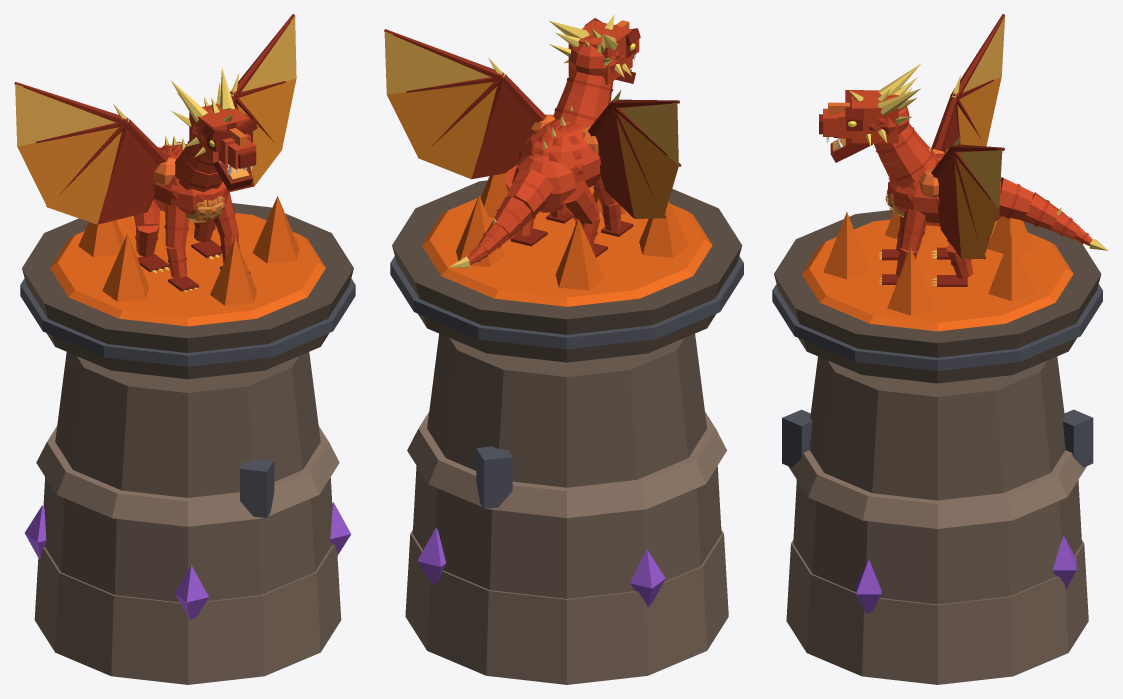
The model's file is tower_flame_l2.glb.
3 renders of one model, left to right at view 1: azimuth 30°, elevation 25°; view 2: azimuth 150°, elevation 25°; view 3: azimuth 270°, elevation 25°, orthographic. The views are drawn at different scales.
Visible parts, largest first — view 1: Body, Turret; view 2: Body, Turret; view 3: Body, Turret.
Boxes of the visible parts, x1,y1,x2,y2 form: Body: [20, 196, 355, 684]; Turret: [14, 14, 296, 291]; Body: [390, 173, 743, 684]; Turret: [384, 14, 681, 267]; Body: [772, 210, 1102, 684]; Turret: [819, 14, 1107, 286].
Bounding box in the file's own units: 0.656 × 1.19 × 0.6673.
